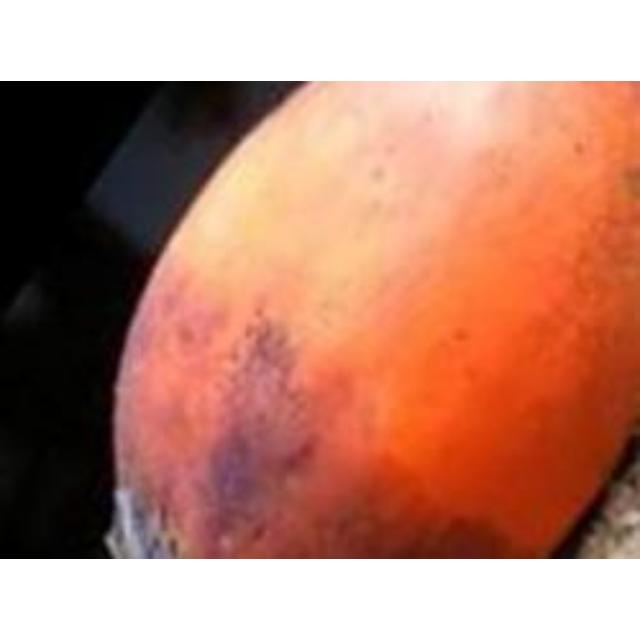good: (102, 81, 637, 557)
